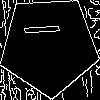I: (24, 20, 69, 37)
